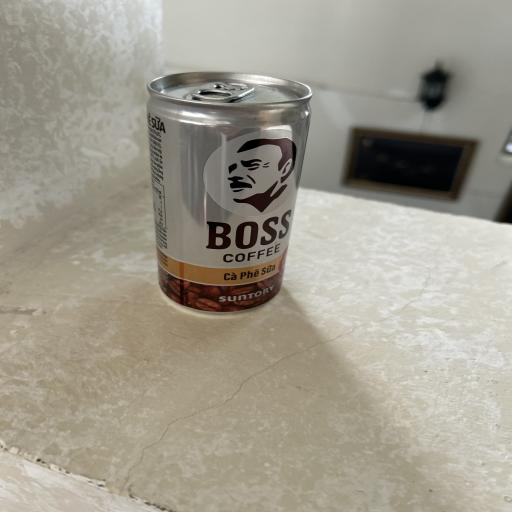boss_coffee: (136, 67, 316, 317)
